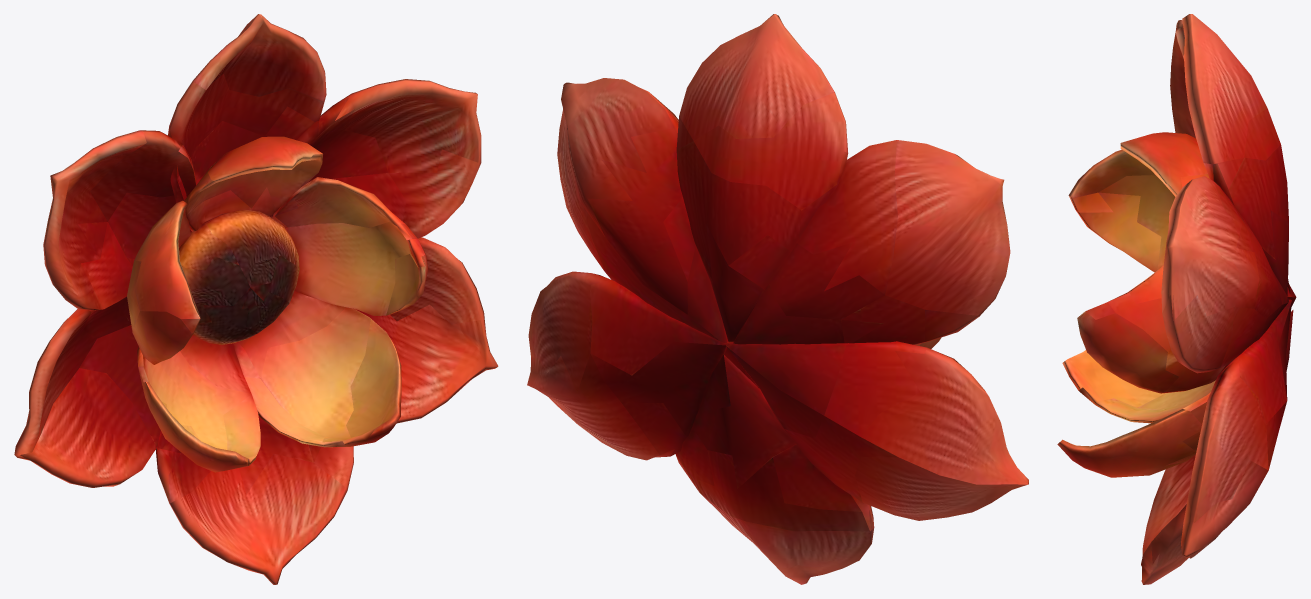
3 renders of one model, left to right at view 1: azimuth 30°, elevation 25°; view 2: azimuth 150°, elevation 25°; view 3: azimuth 270°, elevation 25°, orthographic. The views are drawn at different scales.
Visible parts, largest first — view 1: mesh_node; view 2: mesh_node; view 3: mesh_node.
Part boxes in pixels (x1,y1,x2,y2): mesh_node: (14,14,498,584); mesh_node: (527,14,1028,584); mesh_node: (1057,14,1296,584).
Bounding box in the file's own units: 0.9043 × 1 × 0.3779.
1 material, 1 textured.
